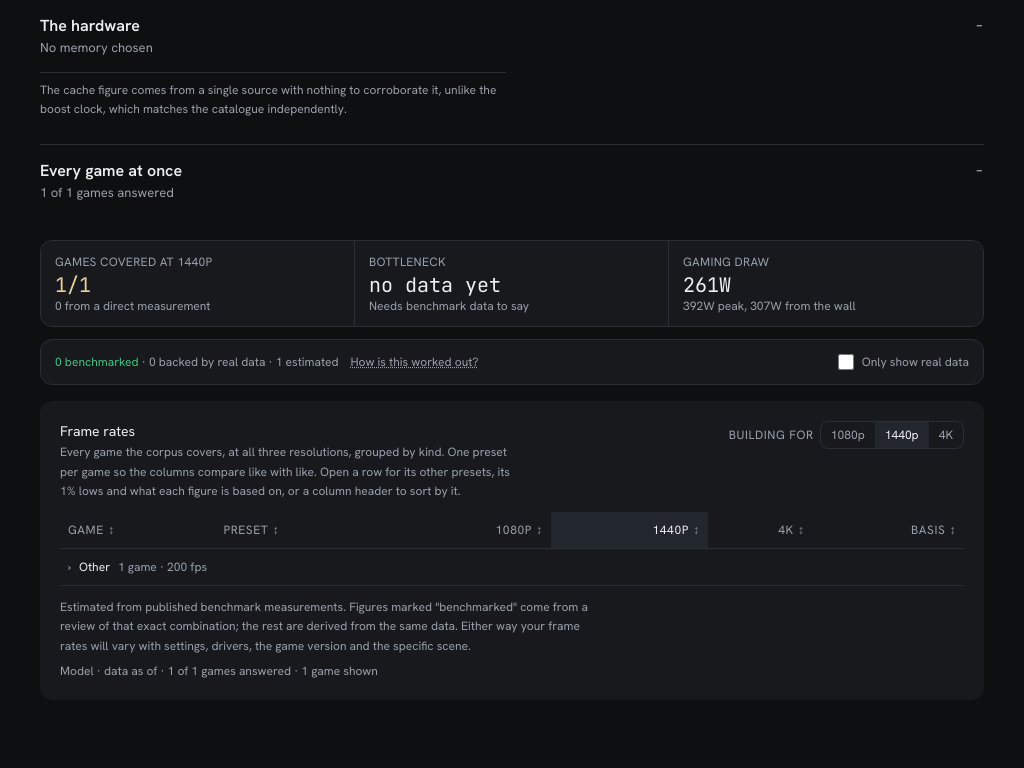
it: PerformanceScreen — the real-data filter wiring › applies the real-data filter BEFORE grouping, not after
(page scrolled)
Click the button "› Other 1 game · 200 fps": (94, 567) [68,555,956,579]
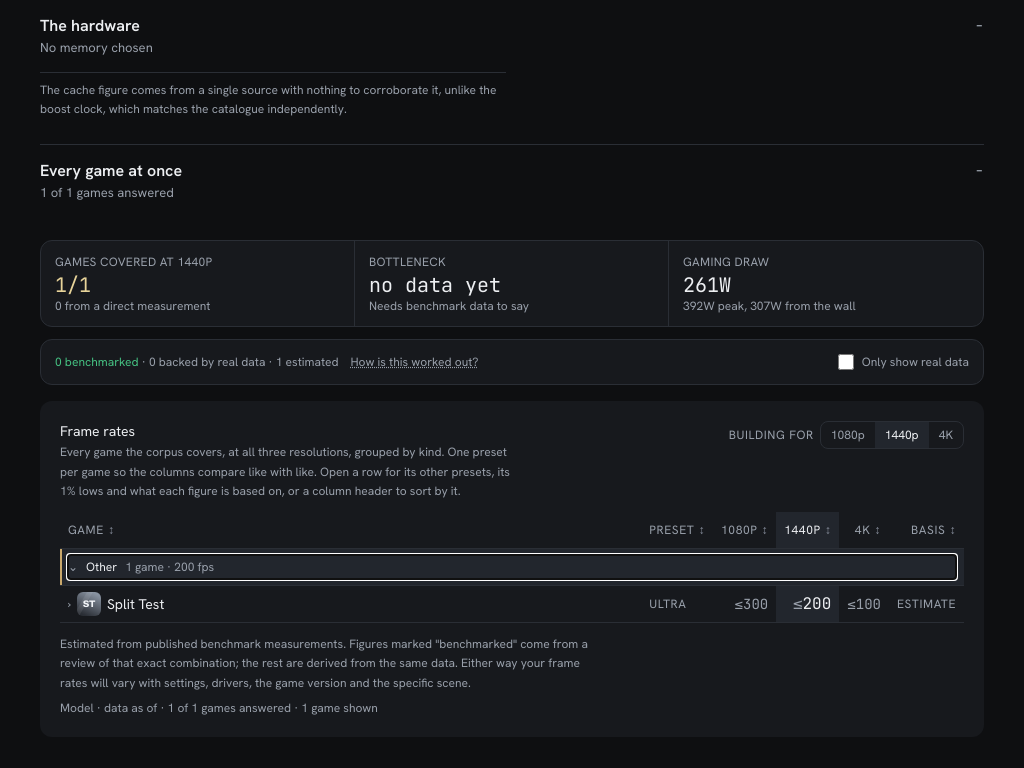
expect the text "Ultra" is shown: met, box [641,585,713,622]
Click the checkbox labelled "Only show real data": (846, 362) [838,354,854,370]
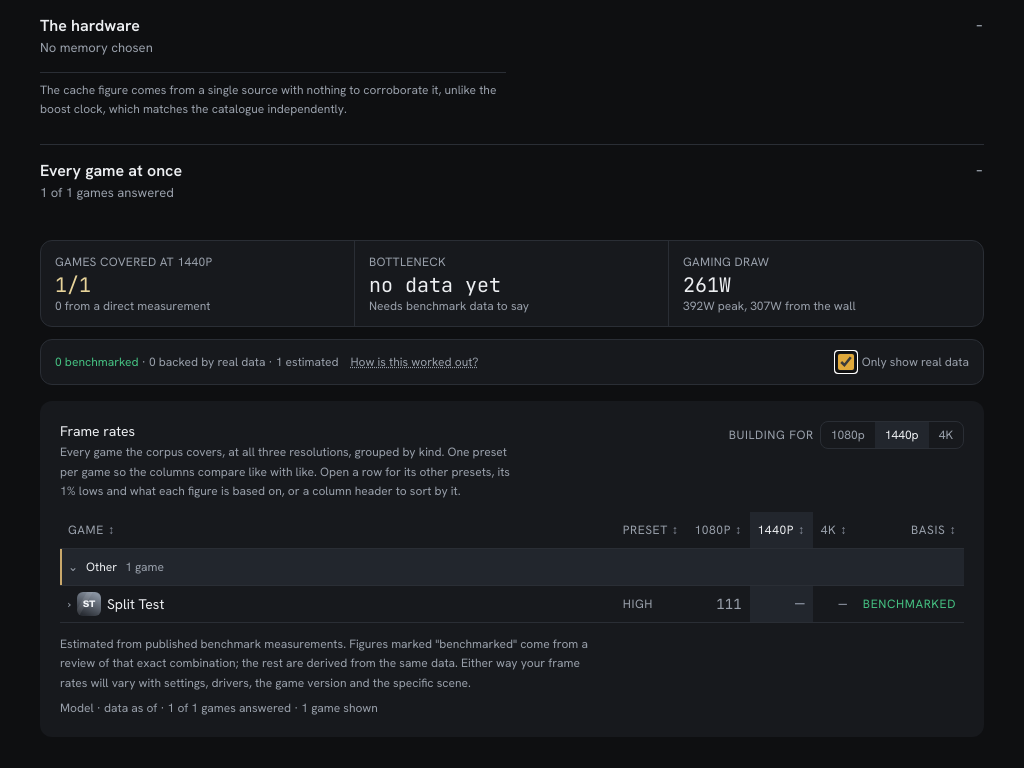
expect the text "Split Test" is shown: met, box [107,594,164,614]
expect the text "High" is shown: met, box [615,585,686,622]
expect the text "Ultra" is gone: met
